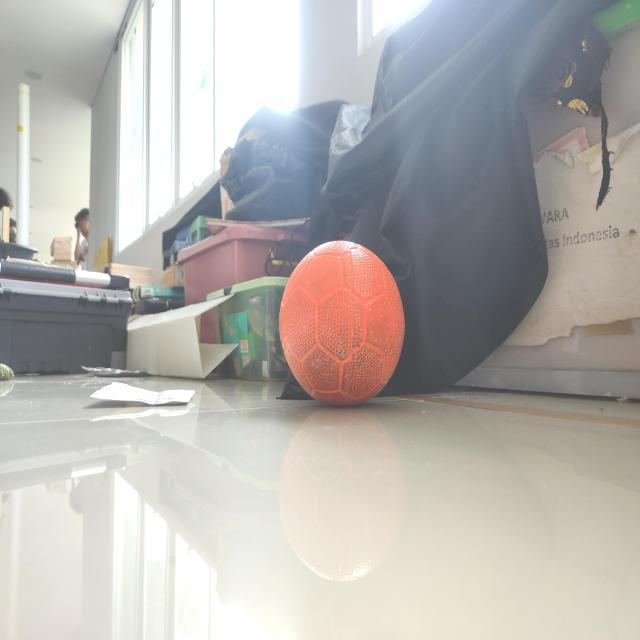bola: (276, 226, 410, 411)
